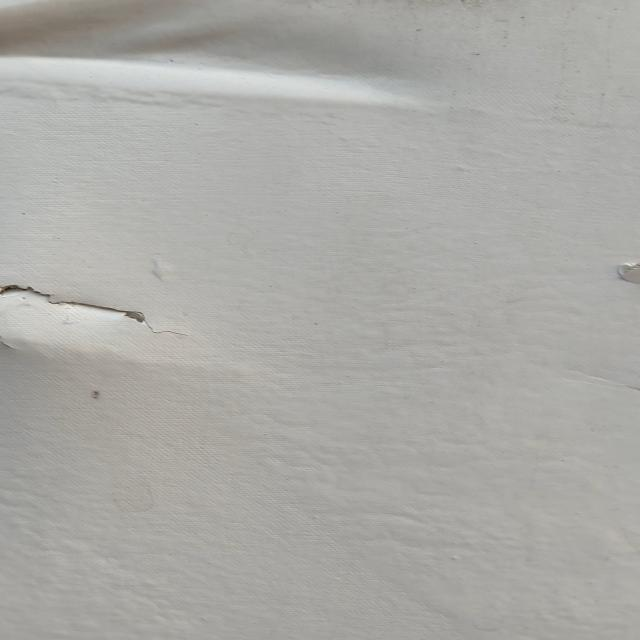Dents or Deformation: (1, 2, 412, 121)
Scratches: (1, 274, 228, 388), (599, 250, 640, 284)
